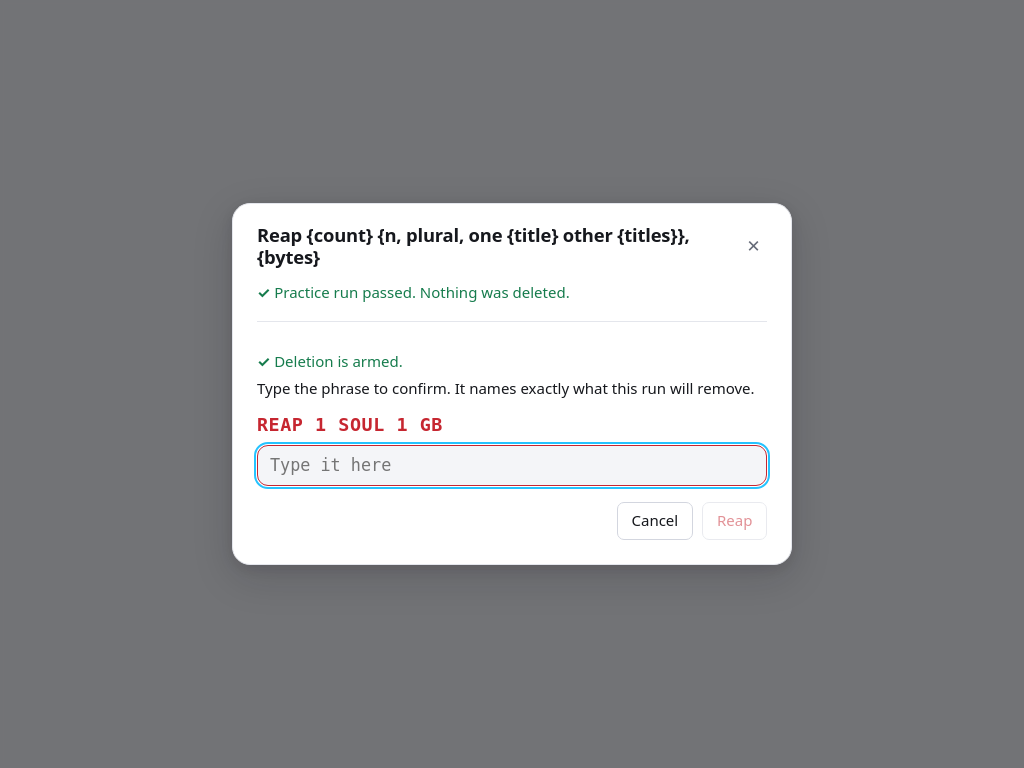
Test case: the execute gate › stays locked until the exact phrase is typed, then lights
Expected: the text "✓ Practice run passed. Nothing was deleted." is shown, [257, 282, 570, 302]
Expected: the button "Reap" is disabled, [702, 502, 767, 540]
Type keys "REAP 9 SOULS 9 GB"
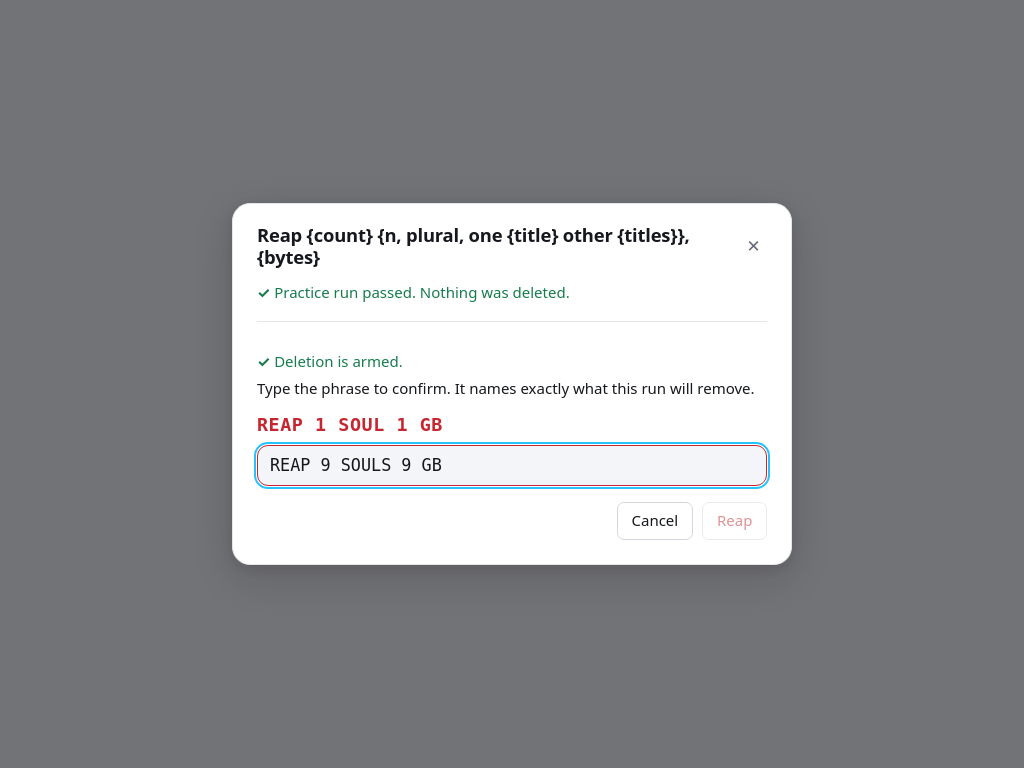
Expected: the button "Reap" is disabled, [702, 502, 767, 540]
Expected: the field holds "REAP 9 SOULS 9 GB"
Clear the field at (512, 465), box [257, 444, 767, 486]
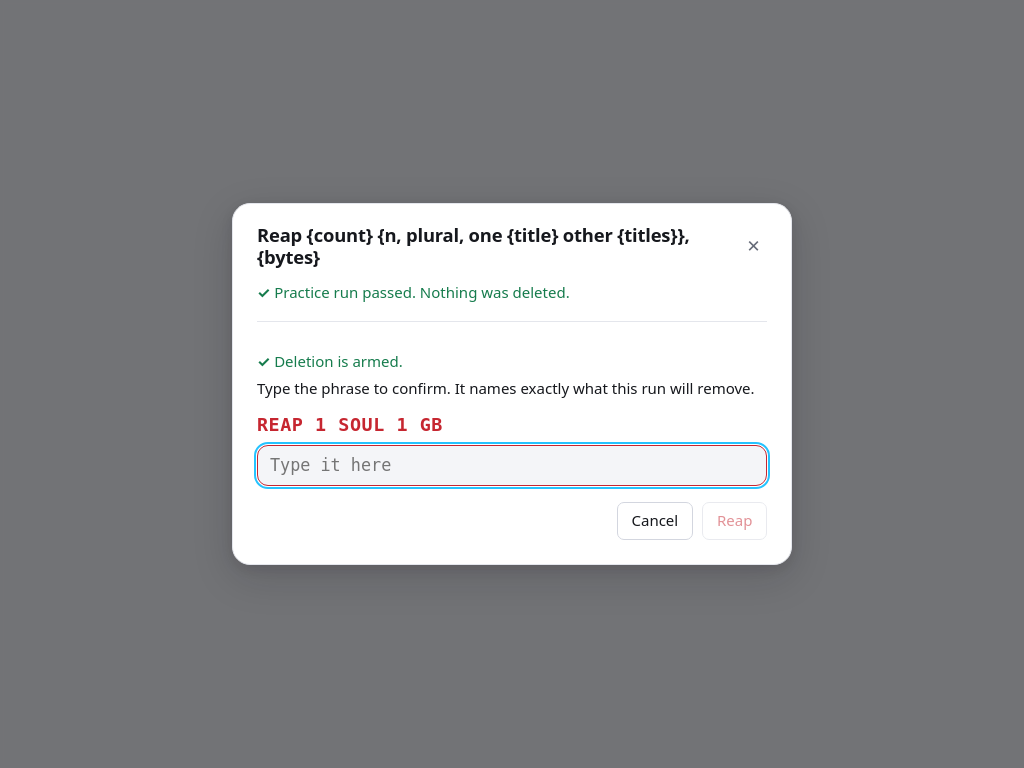
Type keys "REAP 1 SOUL 1 GB"
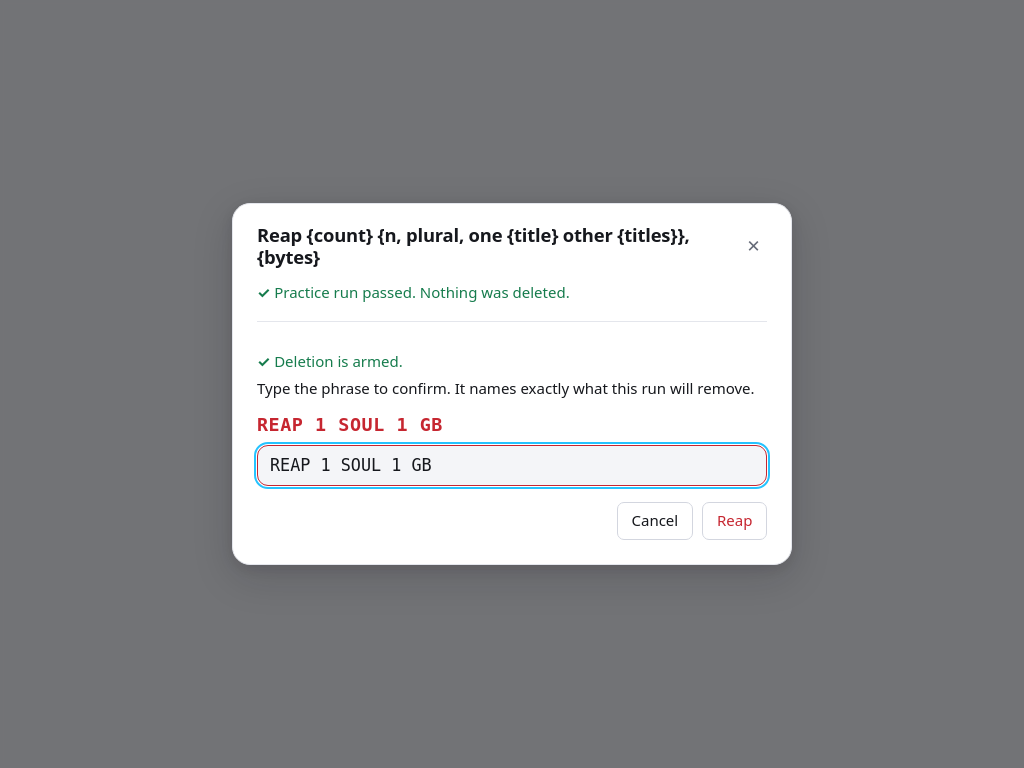
Expected: the field holds "REAP 1 SOUL 1 GB", [257, 444, 767, 486]
Expected: the button "Reap" is enabled, [702, 502, 767, 540]
